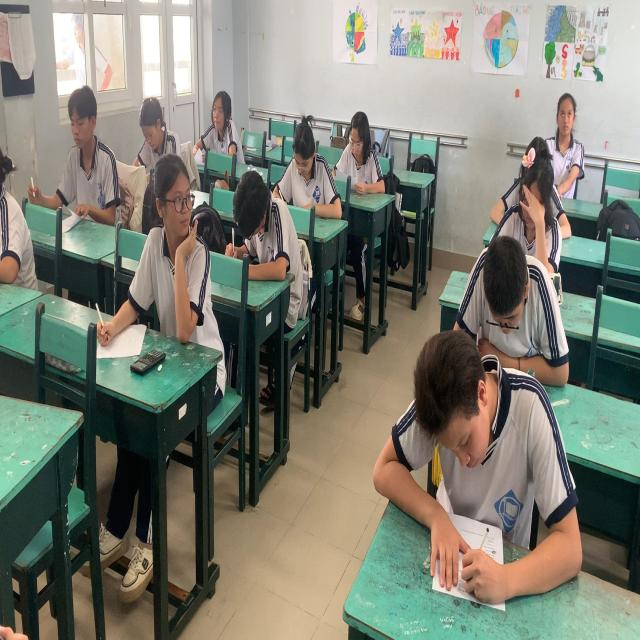cheating: (140, 157, 210, 330)
not_cheating: (404, 337, 536, 606), (52, 85, 118, 215), (462, 247, 540, 337), (274, 106, 330, 215), (511, 168, 567, 257), (340, 98, 382, 194), (238, 178, 281, 261), (134, 92, 170, 167), (557, 95, 581, 174), (210, 84, 231, 157)
